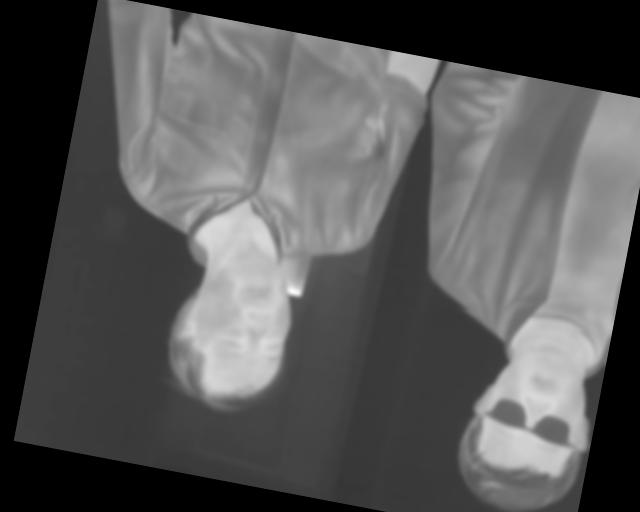face: (448, 334, 606, 512), (156, 239, 306, 423)
